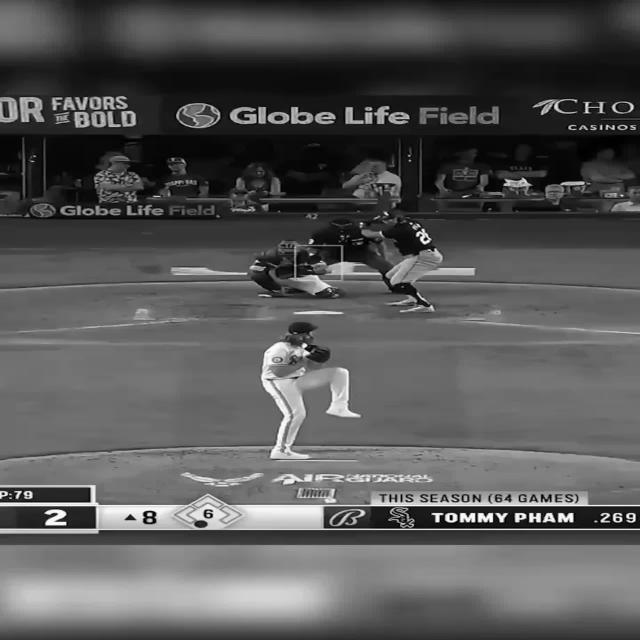baseball_glove: (303, 344, 330, 363)
shoe: (269, 449, 309, 459), (325, 407, 361, 418), (399, 304, 435, 313), (384, 298, 416, 306), (256, 289, 284, 297), (328, 286, 345, 298)
